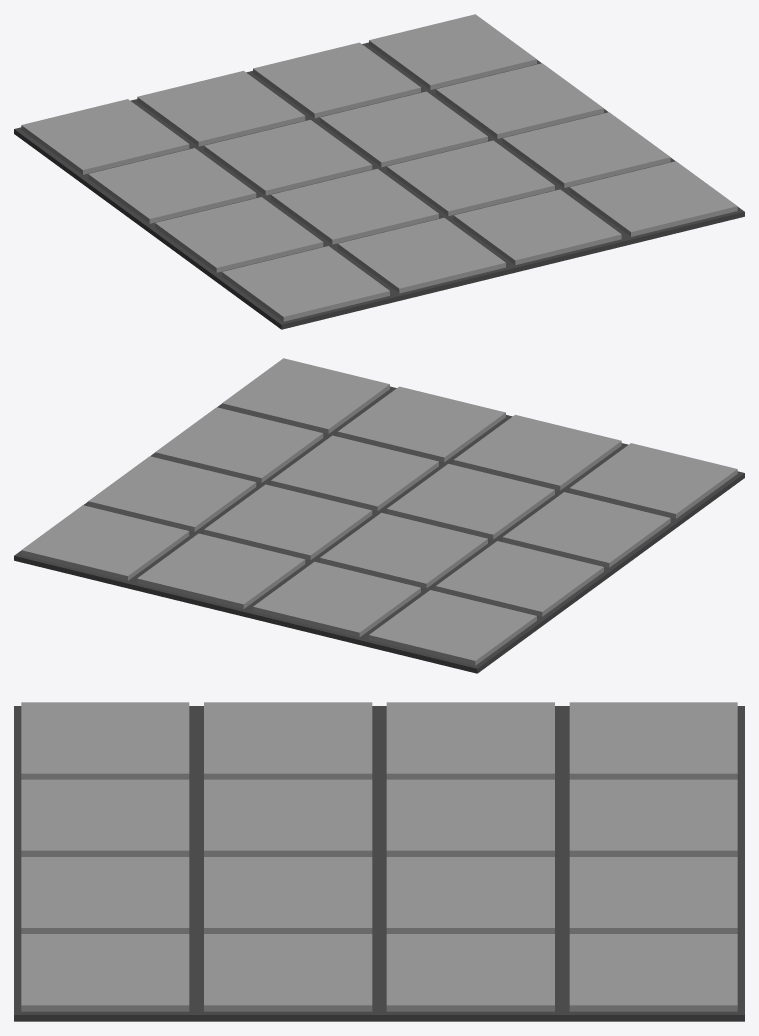
File: floor.obj
3 renders of one model, top to bottom at view 1: azimuth 30°, elevation 25°; view 2: azimuth 150°, elevation 25°; view 3: azimuth 270°, elevation 25°, orthographic. The views are drawn at different scales.
Size of the model in its own units: 10 by 0.2 by 10.
Materials: 1 (1 with a texture image).
